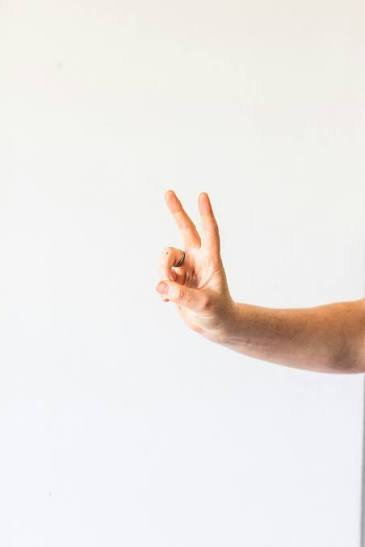peace_sign: (145, 178, 247, 340)
